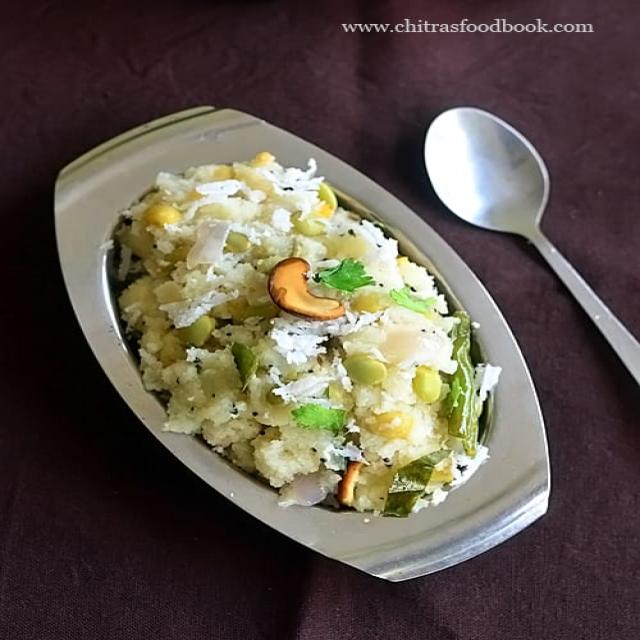upma: (95, 139, 514, 543)
